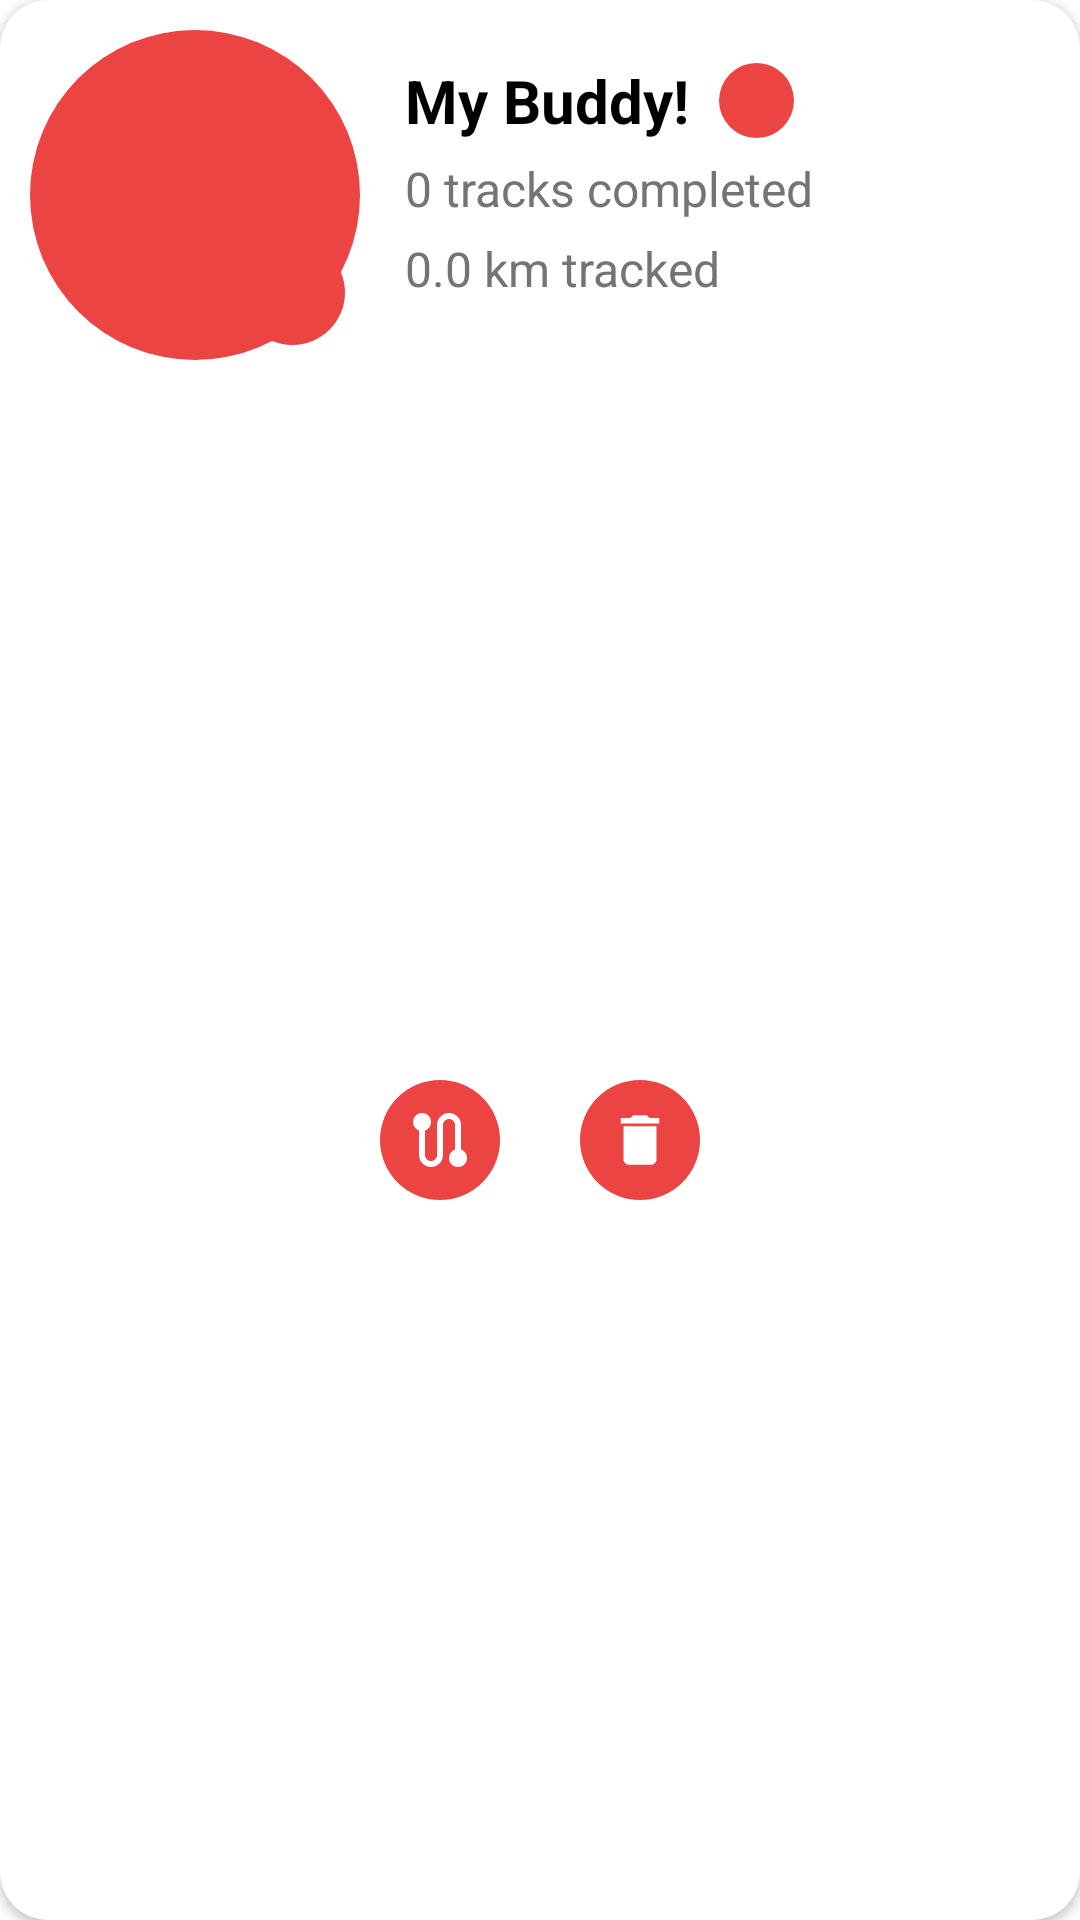

Screen size 1080×1920. Icon name, then its center in pixels as (x=x, y=y):
delete: (x=640, y=1140)
track: (x=440, y=1140)
